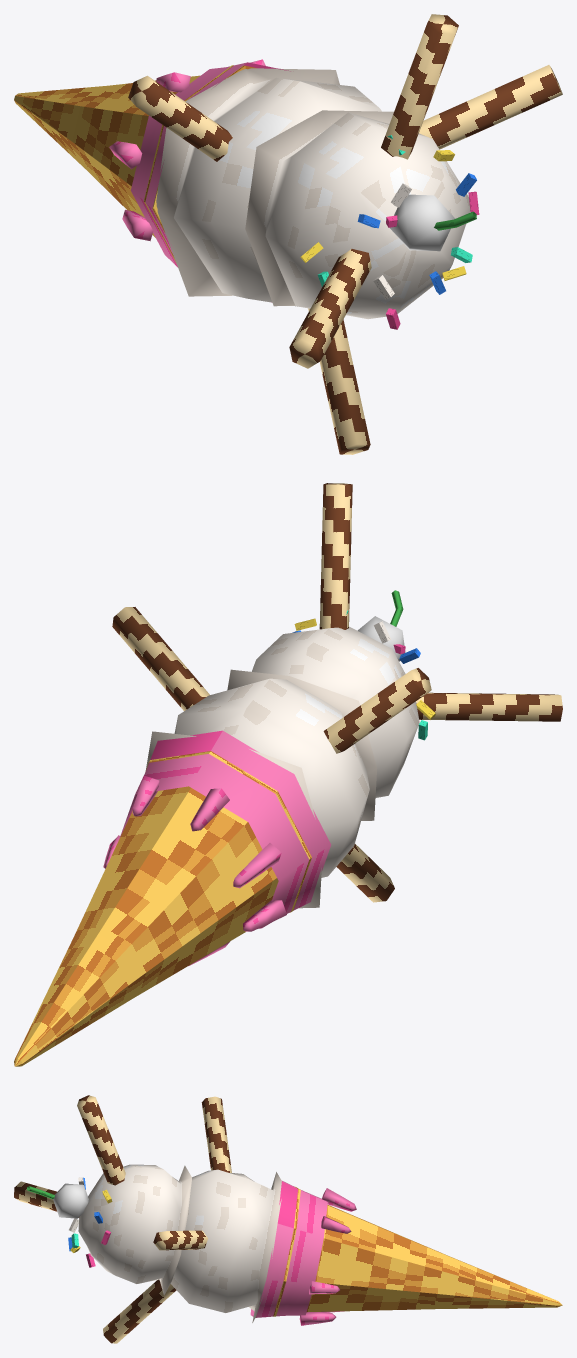
Rendered from Double Dip.fbx.
3 views of the same model, one above another, from view 1: azimuth 30°, elevation 25°; view 2: azimuth 150°, elevation 25°; view 3: azimuth 270°, elevation 25° (orthographic). The views are drawn at different scales.
Parts seen in each view (by area): view 1: Double Dip scoop 2, Double Dip scoop, Double Dip cone.001, Double Dip wafer 0, Double Dip wafer 3, Double Dip wafer 4, Double Dip wafer 2, Double Dip wafer 1, Double Dip dip, Double Dip cherry, Double Dip cone lip, Double Dip drip 4 (+1 smaller); view 2: Double Dip cone.001, Double Dip scoop, Double Dip dip, Double Dip scoop 2, Double Dip wafer 3, Double Dip wafer 4, Double Dip wafer 0, Double Dip wafer 1, Double Dip wafer 2, Double Dip cone lip, Double Dip drip 3, Double Dip drip 2 (+2 smaller); view 3: Double Dip cone.001, Double Dip scoop, Double Dip scoop 2, Double Dip dip, Double Dip wafer 3, Double Dip wafer 2, Double Dip wafer 1, Double Dip cherry, Double Dip wafer 0, Double Dip wafer 4, Double Dip cone lip, Double Dip drip 2 (+1 smaller).
Part boxes in pixels (<box>): Double Dip scoop 2: <box>245,110,470,319</box>; Double Dip scoop: <box>156,68,381,306</box>; Double Dip cone.001: <box>14,75,200,237</box>; Double Dip wafer 0: <box>419,65,562,149</box>; Double Dip wafer 3: <box>381,14,458,159</box>; Double Dip wafer 4: <box>289,248,371,368</box>; Double Dip wafer 2: <box>308,308,370,454</box>; Double Dip wafer 1: <box>128,75,232,161</box>; Double Dip dip: <box>131,62,290,302</box>; Double Dip cherry: <box>389,194,455,251</box>; Double Dip cone lip: <box>143,65,256,262</box>; Double Dip drip 4: <box>122,209,153,241</box>; Double Dip cone.001: <box>14,786,278,1066</box>; Double Dip scoop: <box>145,678,369,908</box>; Double Dip dip: <box>119,730,331,928</box>; Double Dip scoop 2: <box>227,626,419,820</box>; Double Dip wafer 3: <box>319,483,352,629</box>; Double Dip wafer 4: <box>416,692,562,721</box>; Double Dip wafer 0: <box>112,607,209,710</box>; Double Dip wafer 1: <box>323,668,431,753</box>; Double Dip wafer 2: <box>336,844,394,902</box>; Double Dip cone lip: <box>132,751,311,912</box>; Double Dip drip 3: <box>233,843,281,888</box>; Double Dip drip 2: <box>190,788,229,831</box>; Double Dip cone.001: <box>306,1205,562,1311</box>; Double Dip scoop: <box>170,1169,281,1322</box>; Double Dip scoop 2: <box>78,1164,191,1295</box>; Double Dip dip: <box>250,1180,327,1317</box>; Double Dip wafer 3: <box>77,1095,125,1185</box>; Double Dip wafer 2: <box>103,1279,176,1343</box>; Double Dip wafer 1: <box>201,1096,231,1172</box>; Double Dip cherry: <box>53,1183,88,1218</box>; Double Dip wafer 0: <box>153,1230,207,1250</box>; Double Dip wafer 4: <box>14,1181,79,1217</box>; Double Dip cone lip: <box>273,1186,300,1316</box>; Double Dip drip 2: <box>322,1188,356,1211</box>.
Size of the model in its own units: 0.3168 by 0.3407 by 0.6406.
Materials: 11 (10 with a texture image).
